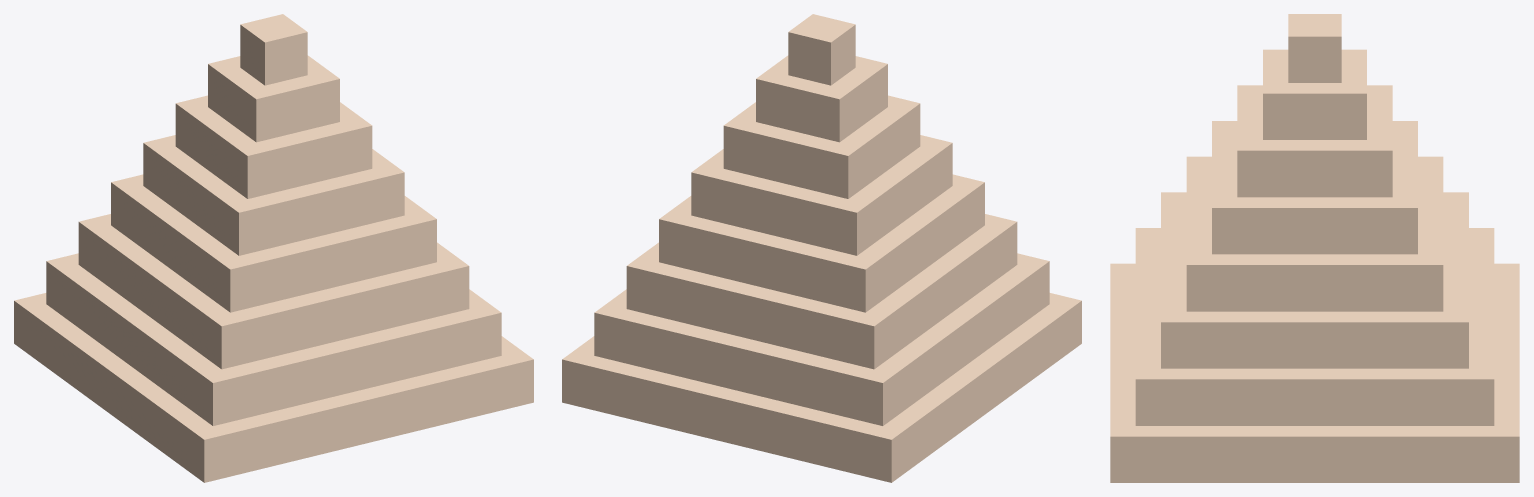
File: Abstract_Castle_Block_TempleTopLarge_Cream_01.fbx
3 views of the same model, side by side, from view 1: azimuth 30°, elevation 25°; view 2: azimuth 150°, elevation 25°; view 3: azimuth 270°, elevation 25° (orthographic). The views are drawn at different scales.
Parts seen in each view (by area): view 1: Model; view 2: Model; view 3: Model.
Boxes of the visible parts, x1,y1,x2,y2 form: Model: (14,14,533,482); Model: (562,14,1081,482); Model: (1110,14,1519,482).
Bounding box in the file's own units: 1000 × 1000 × 1000.
